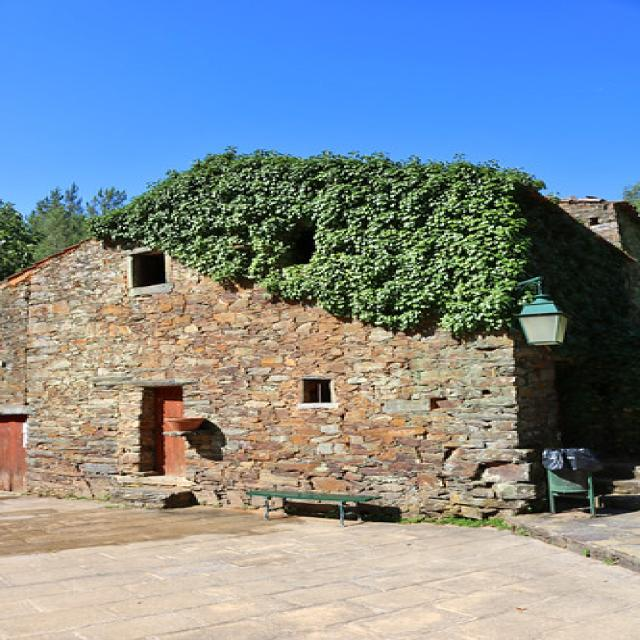building: (2, 145, 640, 522)
